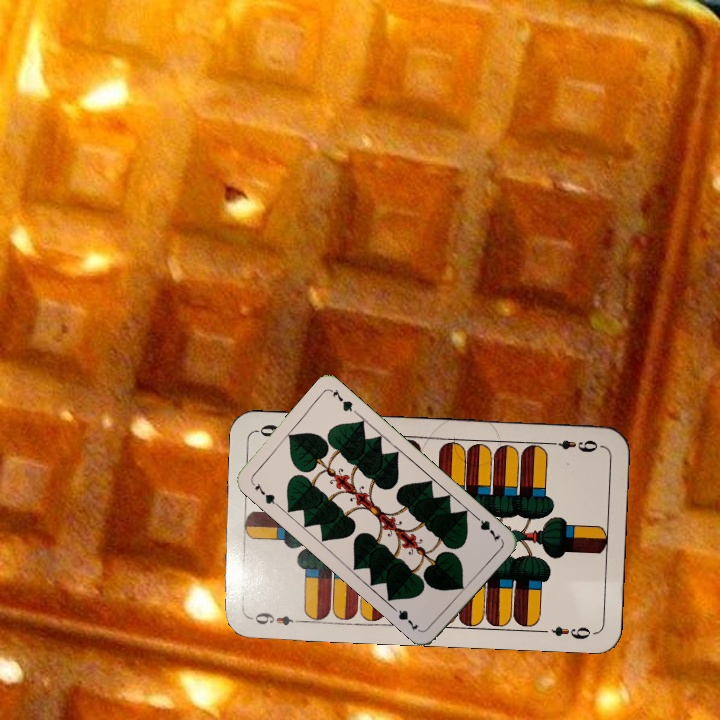E9: (544, 435, 603, 455), (247, 608, 296, 628)
G7: (470, 511, 503, 544), (247, 478, 281, 509)
